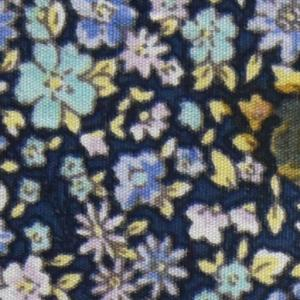Oil Stain: (221, 83, 300, 192)
